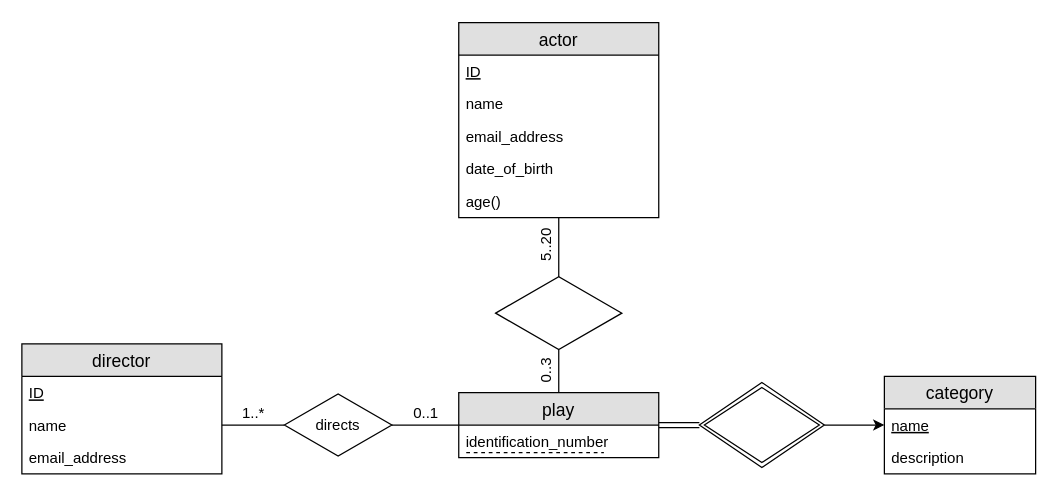
This 1058x499 diagram has some shape labels left out. The box of each missing label's shape, as (x1, y1, x2, y2) in pixels:
belongs_to: (698, 381, 824, 468)
performs_in: (494, 274, 622, 351)
